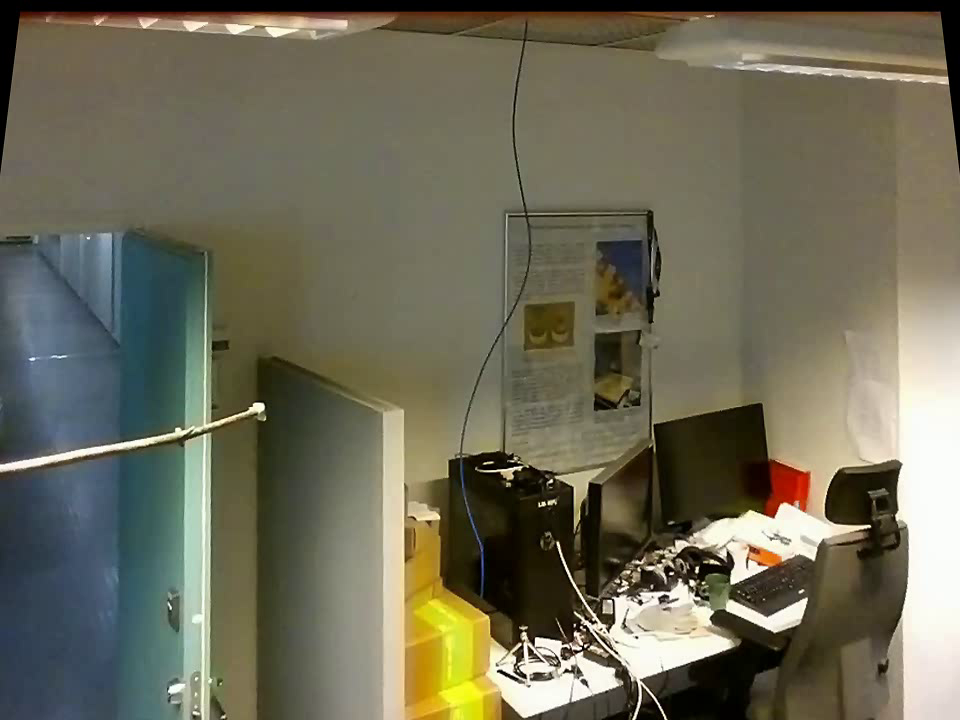branch: (3, 396, 244, 480)
